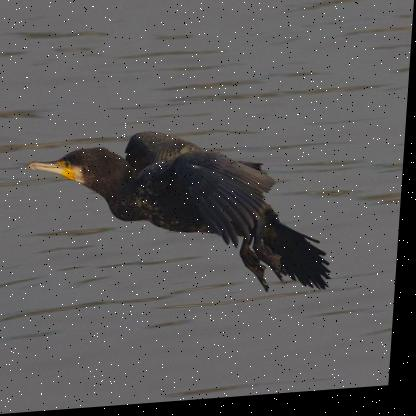Burung: (20, 121, 352, 319)
